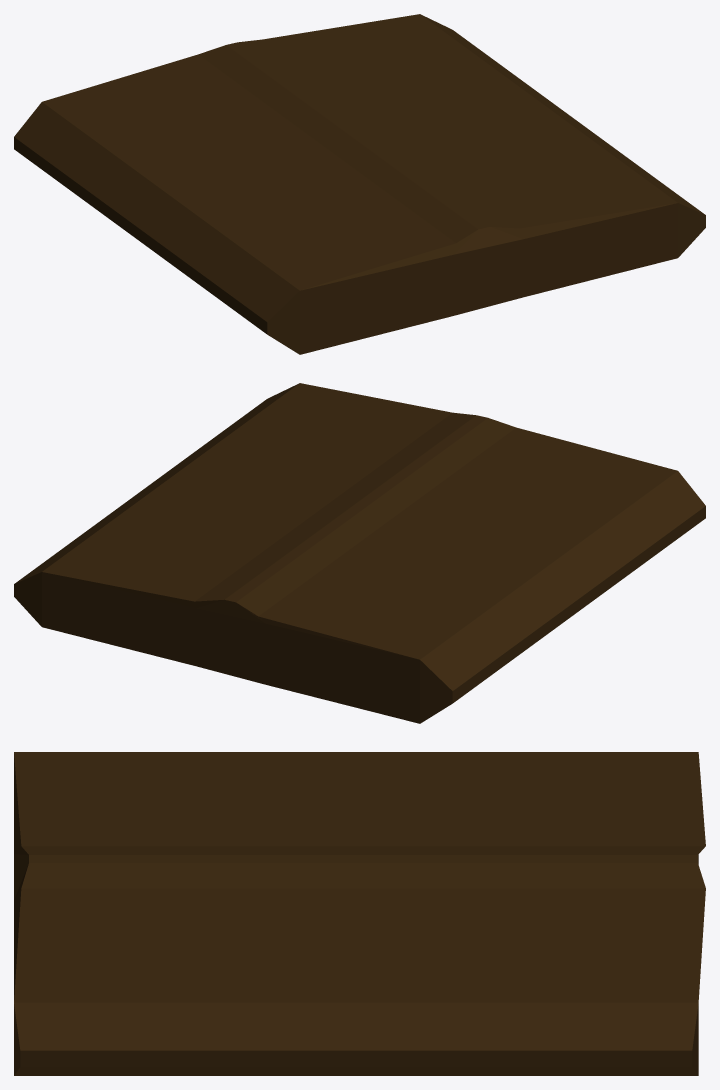
Rendered from Dirt.fbx.
3 renders of one model, top to bottom at view 1: azimuth 30°, elevation 25°; view 2: azimuth 150°, elevation 25°; view 3: azimuth 270°, elevation 25°, orthographic. The views are drawn at different scales.
Visible parts, largest first — view 1: Cube; view 2: Cube; view 3: Cube.
Boxes of the visible parts, x1=… form: Cube: x1=14, y1=14, x2=705, y2=354; Cube: x1=14, y1=383, x2=705, y2=723; Cube: x1=14, y1=752, x2=705, y2=1075.
Size of the model in its own units: 200 by 33.28 by 206.
